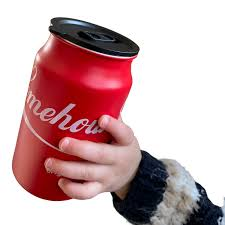can: (9, 15, 140, 209)
